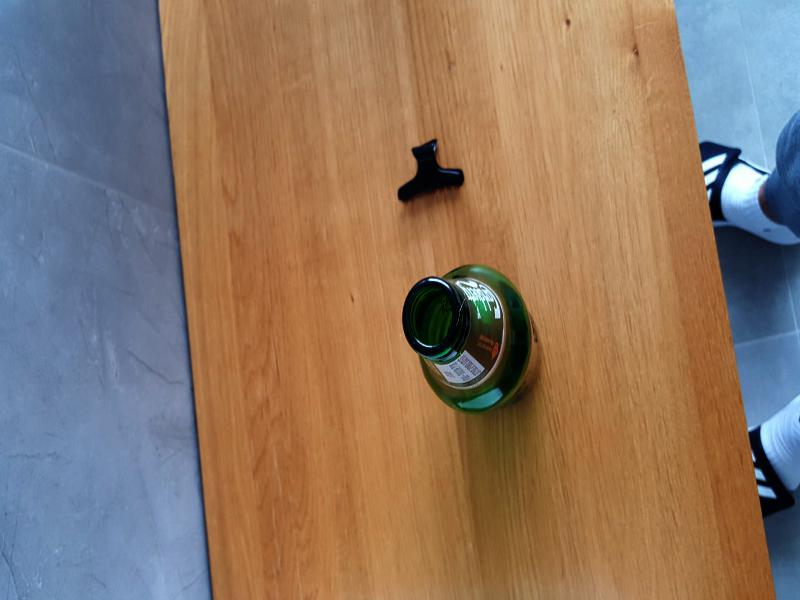Beer: (403, 260, 542, 412)
